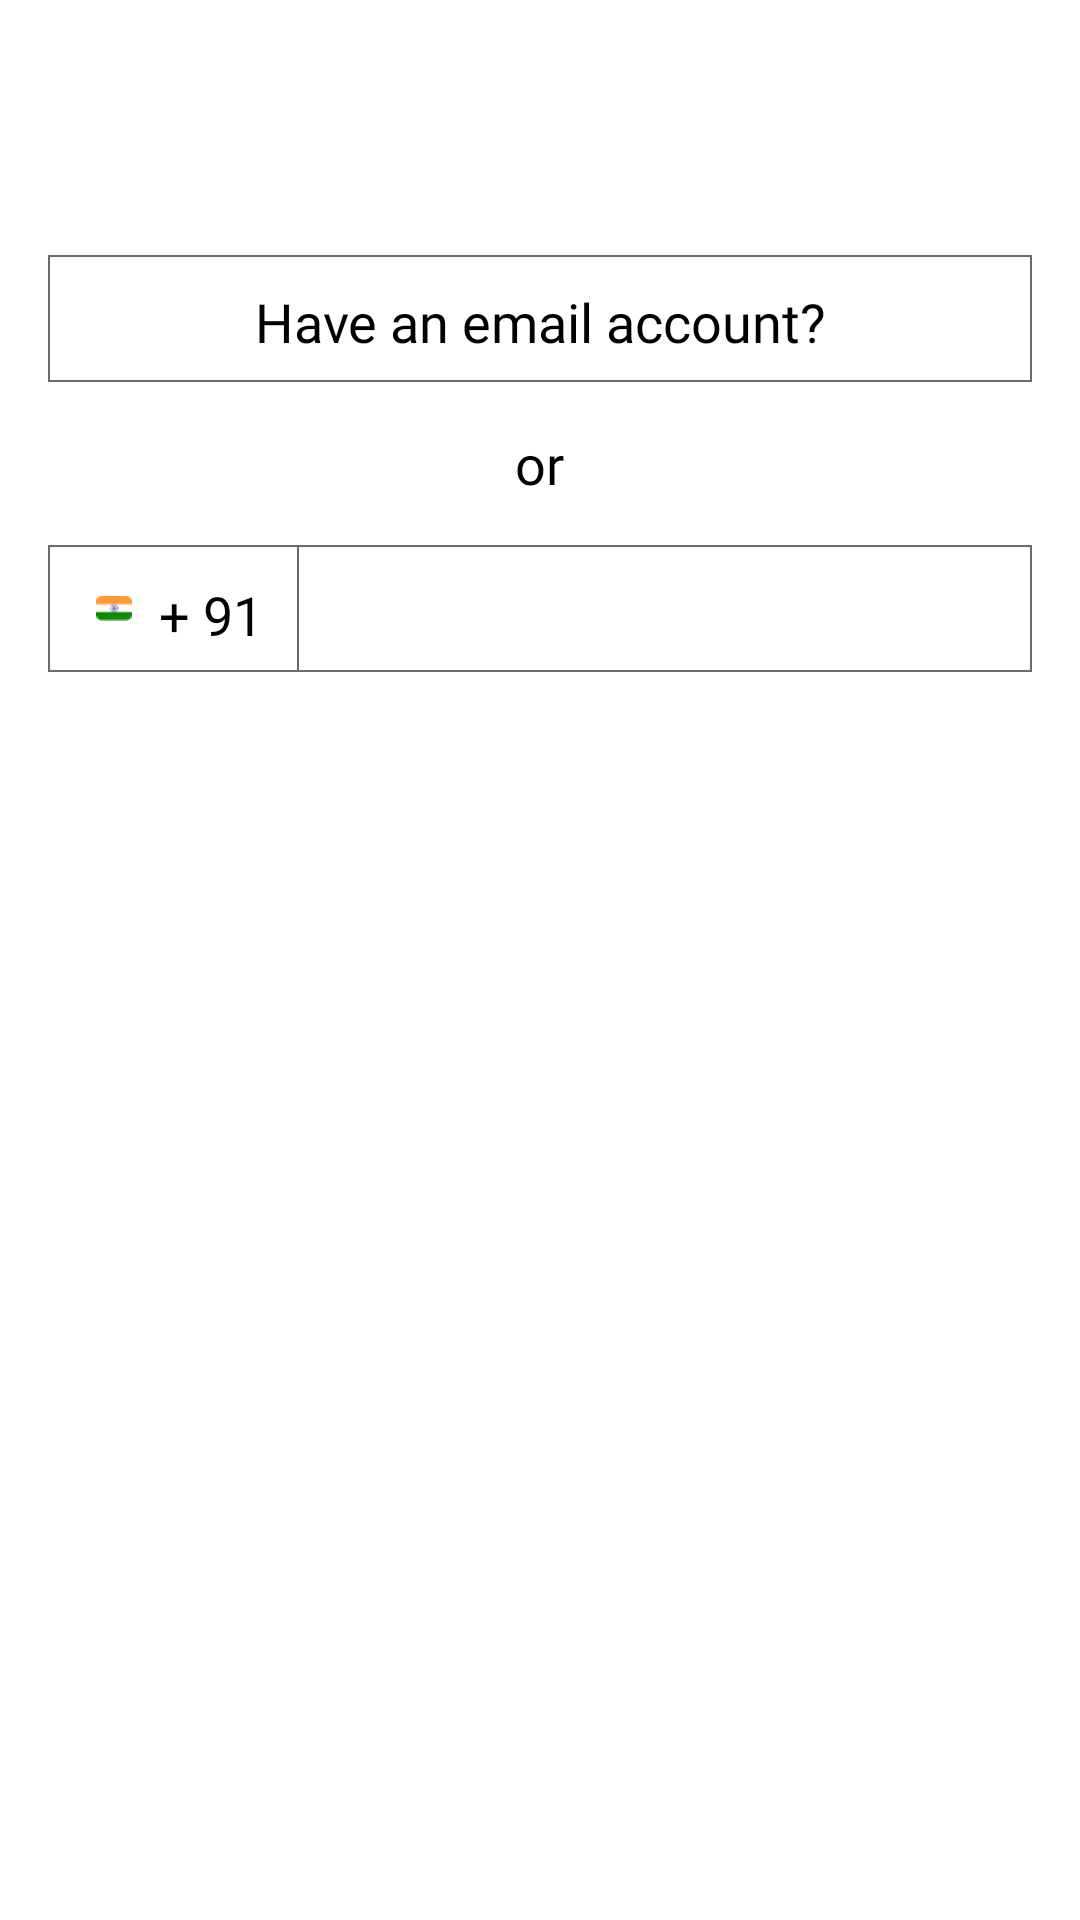

Icon bounding boxes for this 1080px x 1920px phone screenshot, format bbox=[x1, y1, x2, y2]:
india: bbox=[96, 596, 132, 621]
